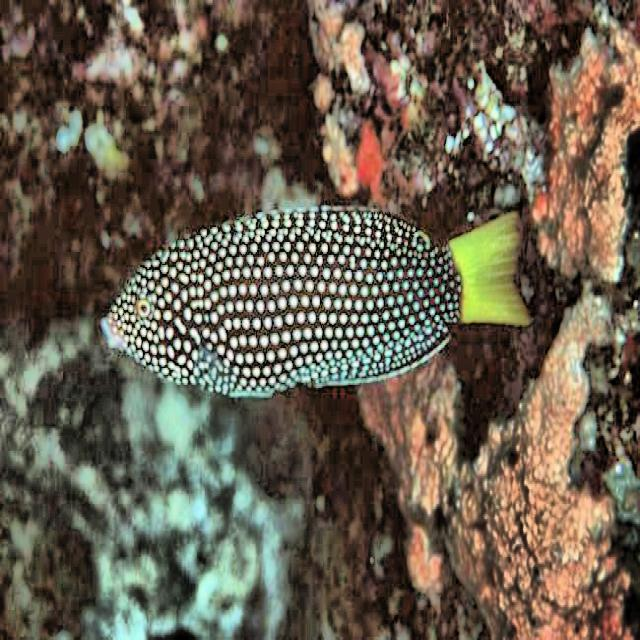fish: (101, 202, 531, 398)
